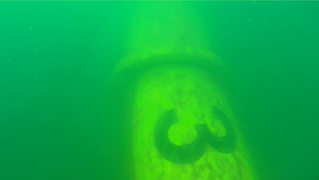3: (154, 103, 238, 164)
pipe: (107, 1, 257, 179)
